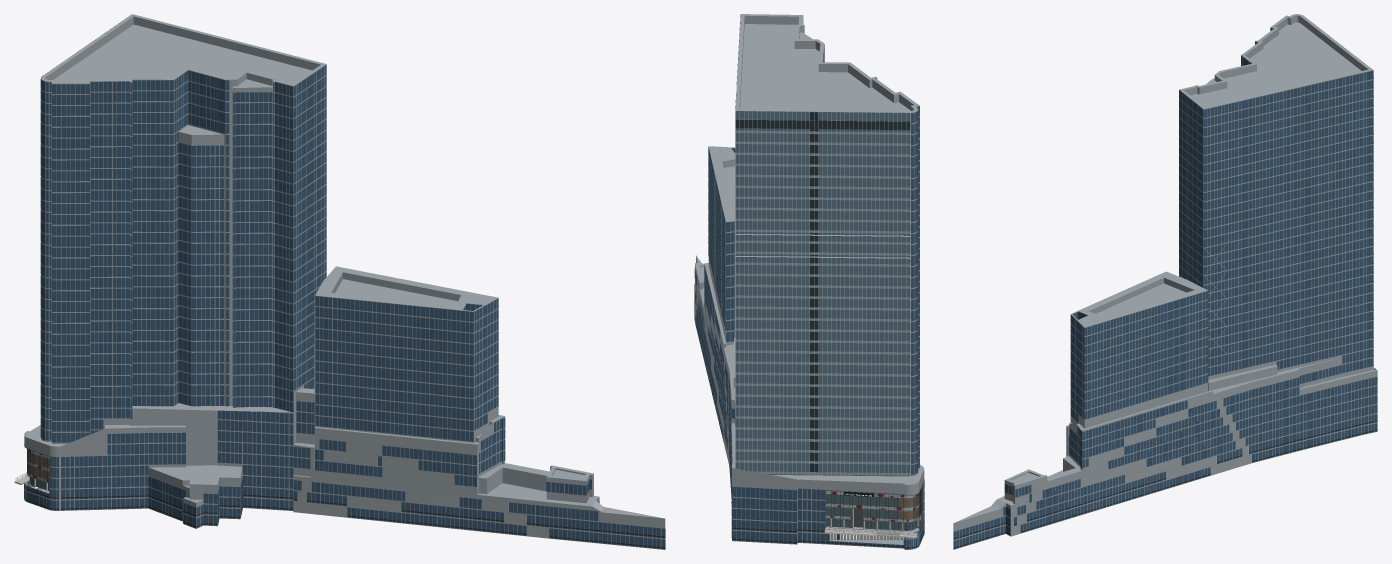
Rendered from sakura-stage.glb.
3 views of the same model, side by side, from view 1: azimuth 30°, elevation 25°; view 2: azimuth 150°, elevation 25°; view 3: azimuth 270°, elevation 25° (orthographic). The views are drawn at different scales.
Parts seen in each view (by area): view 1: sakura-stage_wall, sakura-stage_glass1, sakura-stage_glass2, sakura-stage_glass0, sakura-stage_roof, sakura-stage_frame, sakura-stage_spandrel, sakura-stage_sign_housing; view 2: sakura-stage_north143_glass, sakura-stage_north143_spandrel, sakura-stage_north143_fins, sakura-stage_roof, sakura-stage_wall, sakura-stage_glass2, sakura-stage_glass1, sakura-stage_glass0, sakura-stage_north143_dark_glass, D20_podium_INFERRED__bounded_rail_to_podium_landing, D20_podium_PODIUM__Podium Cool opaque preview glazing, D20_podium_PODIUM__Podium Neutral glazing spandrel without c (+3 smaller); view 3: sakura-stage_wall, sakura-stage_glass1, sakura-stage_glass0, sakura-stage_glass2, sakura-stage_roof, sakura-stage_frame, sakura-stage_spandrel, sakura-stage_sign_housing.
Part boxes in pixels (x1=…): sakura-stage_wall: x1=24, y1=16, x2=665, y2=549; sakura-stage_glass1: x1=24, y1=65, x2=665, y2=549; sakura-stage_glass2: x1=24, y1=68, x2=660, y2=548; sakura-stage_glass0: x1=24, y1=71, x2=660, y2=547; sakura-stage_roof: x1=24, y1=14, x2=664, y2=518; sakura-stage_frame: x1=39, y1=66, x2=665, y2=548; sakura-stage_spandrel: x1=26, y1=75, x2=664, y2=549; sakura-stage_sign_housing: x1=24, y1=486, x2=665, y2=548; sakura-stage_north143_glass: x1=735, y1=111, x2=910, y2=476; sakura-stage_north143_spandrel: x1=735, y1=119, x2=910, y2=475; sakura-stage_north143_fins: x1=735, y1=111, x2=910, y2=476; sakura-stage_roof: x1=694, y1=14, x2=924, y2=544; sakura-stage_wall: x1=694, y1=15, x2=924, y2=549; sakura-stage_glass2: x1=695, y1=15, x2=924, y2=547; sakura-stage_glass1: x1=695, y1=44, x2=922, y2=549; sakura-stage_glass0: x1=694, y1=23, x2=924, y2=549; sakura-stage_north143_dark_glass: x1=735, y1=112, x2=910, y2=472; D20_podium_INFERRED__bounded_rail_to_podium_landing: x1=824, y1=486, x2=922, y2=539; D20_podium_PODIUM__Podium Cool opaque preview glazing: x1=826, y1=487, x2=921, y2=539; D20_podium_PODIUM__Podium Neutral glazing spandrel without c: x1=826, y1=491, x2=921, y2=539; sakura-stage_wall: x1=953, y1=15, x2=1377, y2=549; sakura-stage_glass1: x1=960, y1=28, x2=1377, y2=547; sakura-stage_glass0: x1=953, y1=56, x2=1377, y2=549; sakura-stage_glass2: x1=956, y1=72, x2=1377, y2=543; sakura-stage_roof: x1=954, y1=14, x2=1377, y2=522; sakura-stage_frame: x1=959, y1=57, x2=1368, y2=547; sakura-stage_spandrel: x1=954, y1=64, x2=1377, y2=549; sakura-stage_sign_housing: x1=953, y1=420, x2=1377, y2=548.
Size of the model in its own units: 197 by 184 by 196.
Materials: 18 (5 with a texture image).
